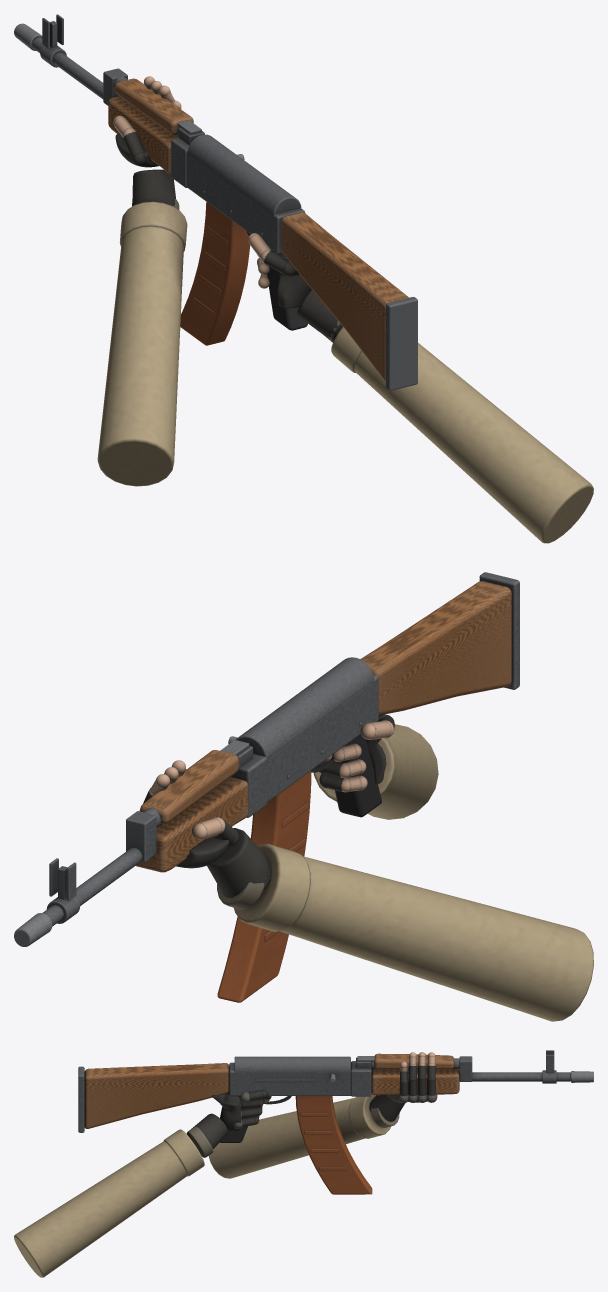
File: gevaer.glb
3 views of the same model, one above another, from view 1: azimuth 30°, elevation 25°; view 2: azimuth 150°, elevation 25°; view 3: azimuth 270°, elevation 25° (orthographic). The views are drawn at different scales.
Visible parts, largest first — view 1: hænder, gevær; view 2: gevær, hænder; view 3: gevær, hænder.
Boxes of the visible parts, bbox=[...] form: hænder: bbox=[97, 76, 593, 543]; gevær: bbox=[14, 14, 417, 390]; gevær: bbox=[14, 572, 519, 1002]; hænder: bbox=[139, 714, 593, 1021]; gevær: bbox=[78, 1050, 593, 1194]; hænder: bbox=[14, 1052, 437, 1277].
Bounding box in the file's own units: 0.5165 × 0.3979 × 1.12.
Materials: 2 (2 with a texture image).
